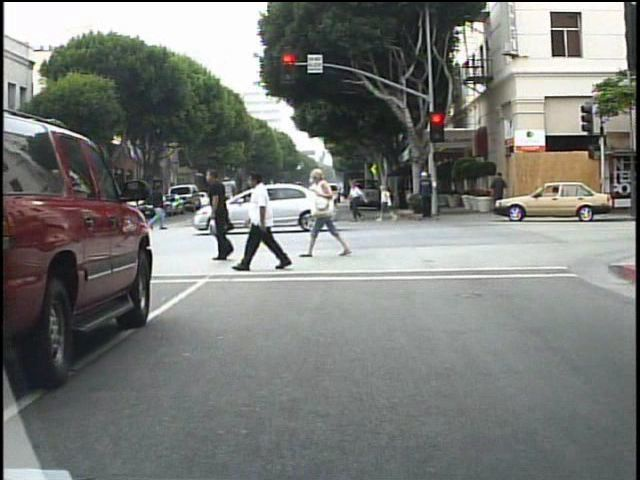person: (233, 172, 295, 276), (309, 165, 356, 259), (204, 165, 247, 266), (412, 164, 434, 223), (306, 173, 327, 224), (347, 176, 369, 224), (290, 178, 311, 225), (152, 179, 168, 232), (118, 180, 136, 227), (490, 169, 508, 215), (4, 191, 22, 237), (7, 198, 24, 236)
